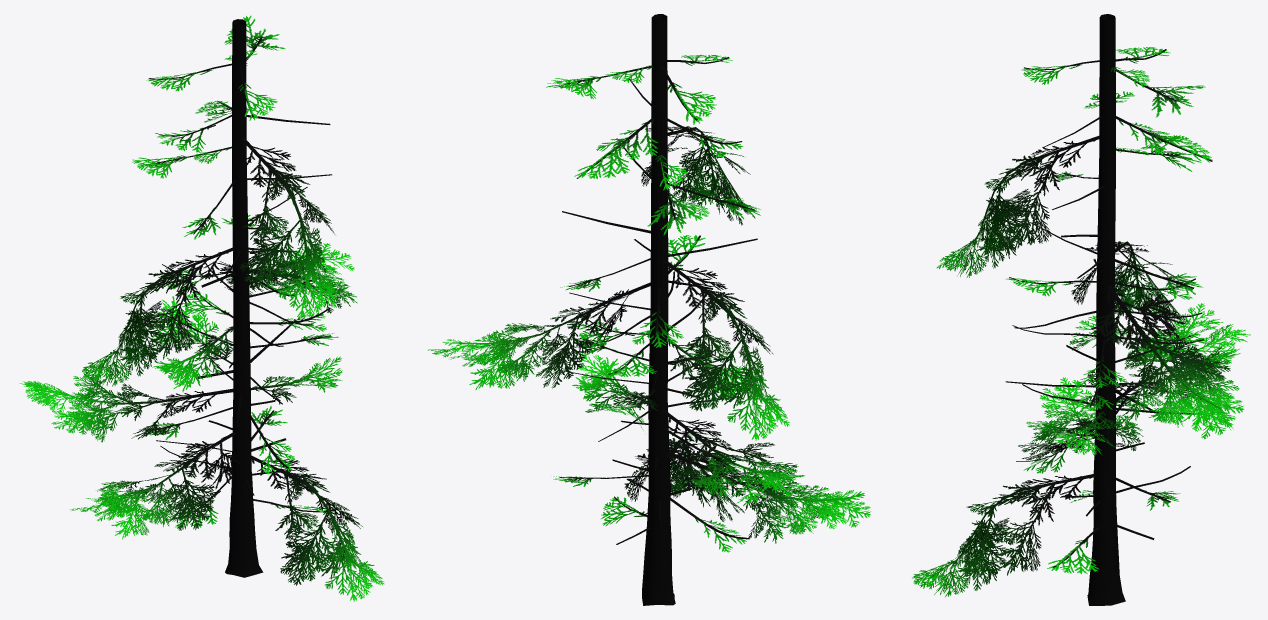
File: half_spruce_B.fbx
The picture shows the model from 3 angles, left to right: view 1: azimuth 30°, elevation 25°; view 2: azimuth 150°, elevation 25°; view 3: azimuth 270°, elevation 25°; orthographic projection. The views are drawn at different scales.
Visible parts, largest first — view 1: SpruceTreeB; view 2: SpruceTreeB; view 3: SpruceTreeB.
Part boxes in pixels (box(x1,y1,x2,y2)): SpruceTreeB: box(19, 15, 384, 601); SpruceTreeB: box(428, 14, 870, 605); SpruceTreeB: box(912, 14, 1250, 605).
Bounding box in the file's own units: 484 × 708 × 384.
